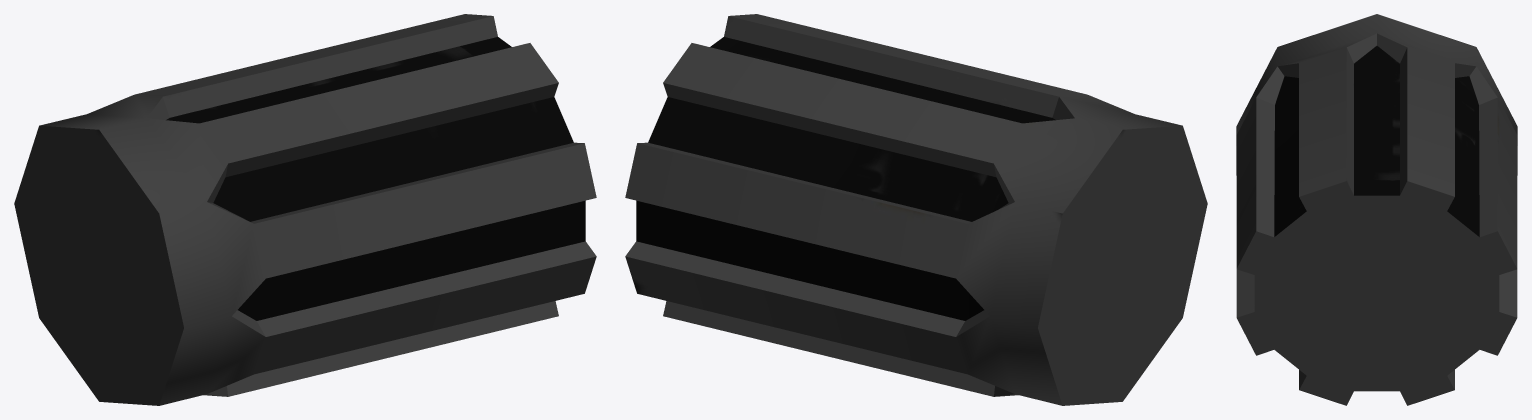
File: revolverB_new.glb
3 renders of one model, left to right at view 1: azimuth 30°, elevation 25°; view 2: azimuth 150°, elevation 25°; view 3: azimuth 270°, elevation 25°, orthographic. The views are drawn at different scales.
Parts seen in each view (by area): view 1: revolverB.001; view 2: revolverB.001; view 3: revolverB.001.
Boxes of the visible parts, box(x1,y1,x2,y2) form: revolverB.001: box(14, 14, 596, 405); revolverB.001: box(625, 14, 1207, 405); revolverB.001: box(1236, 14, 1517, 405).
Size of the model in its own units: 0.7754 by 0.4883 by 0.5529.
1 material, 1 textured.
